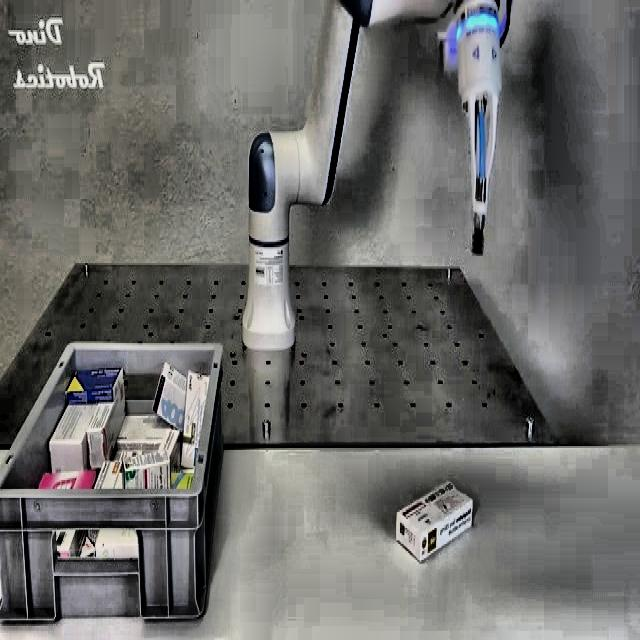robot: (241, 0, 514, 352)
